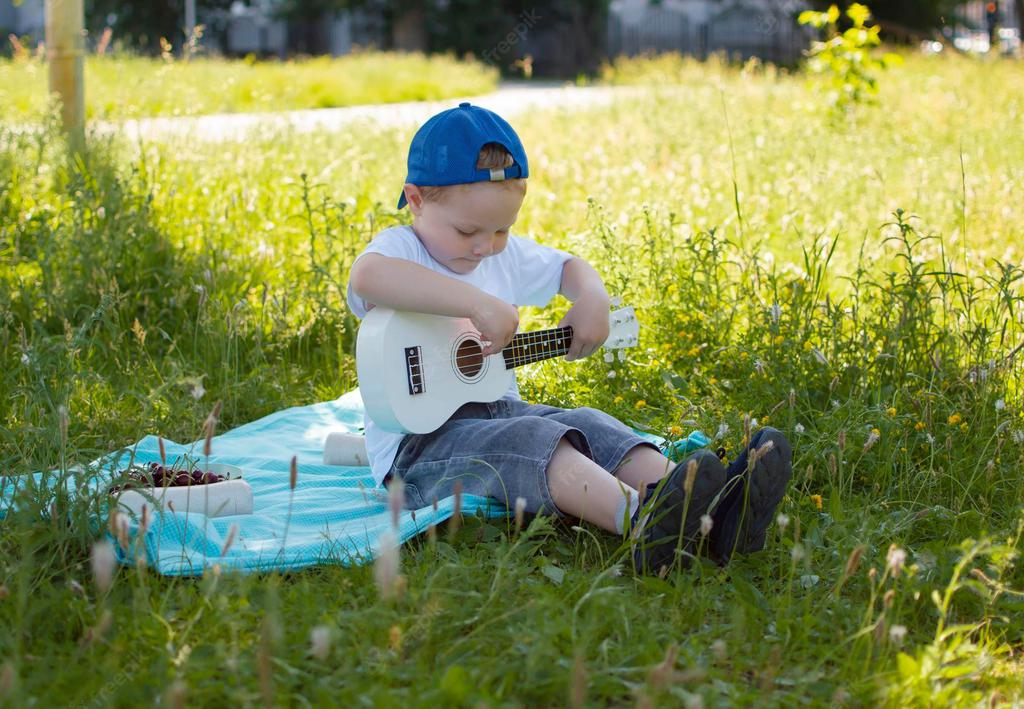child: (317, 105, 797, 575)
